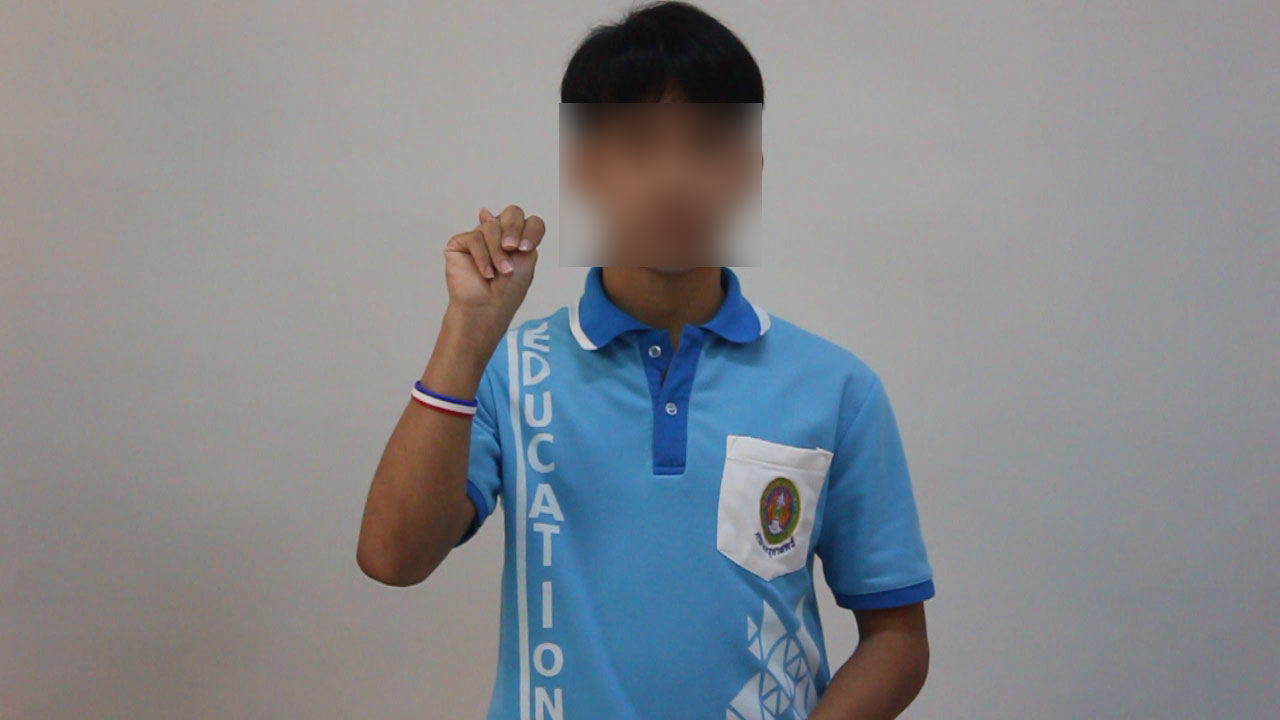nor: (436, 196, 560, 324)
